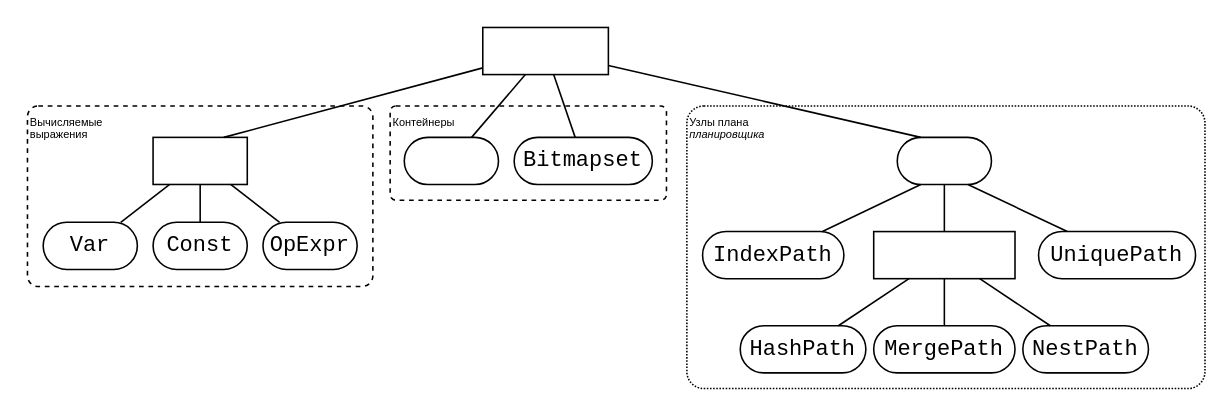
This 1232x416 diagram has some shape labels left out. Here are the shapes that lost their labels. From the top down, the centre of each, then its label:
At (544,50): "Node".
At (199,160): "Expr".
At (450,160): "List".
At (943,160): "Path".
At (943,254): "JoinPath".
